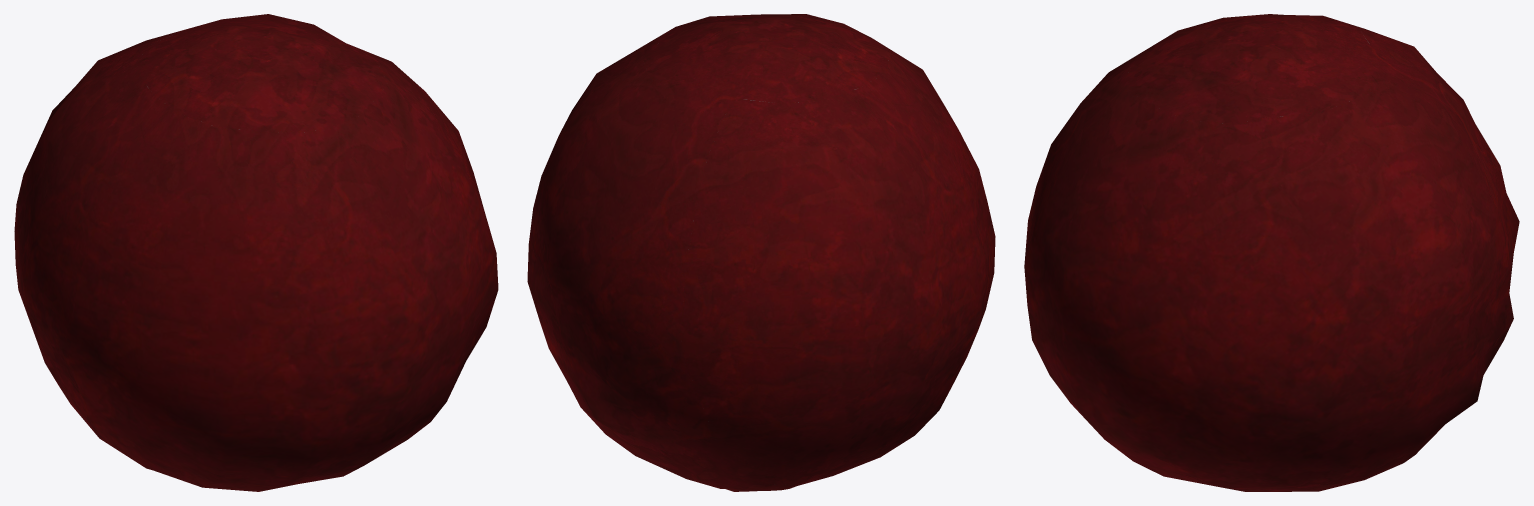
The model's file is KDK_Map03_FinalBoss_Sphere.obj.
3 views of the same model, side by side, from view 1: azimuth 30°, elevation 25°; view 2: azimuth 150°, elevation 25°; view 3: azimuth 270°, elevation 25° (orthographic). The views are drawn at different scales.
Visible parts, largest first — view 1: Derelict_FinalBoss_Liquid_Sphere_Low; view 2: Derelict_FinalBoss_Liquid_Sphere_Low; view 3: Derelict_FinalBoss_Liquid_Sphere_Low.
Boxes of the visible parts, x1,y1,x2,y2 form: Derelict_FinalBoss_Liquid_Sphere_Low: (14, 14, 498, 491); Derelict_FinalBoss_Liquid_Sphere_Low: (527, 14, 995, 491); Derelict_FinalBoss_Liquid_Sphere_Low: (1024, 14, 1519, 491).
Size of the model in its own units: 222 by 224 by 231.
1 material, 1 textured.
